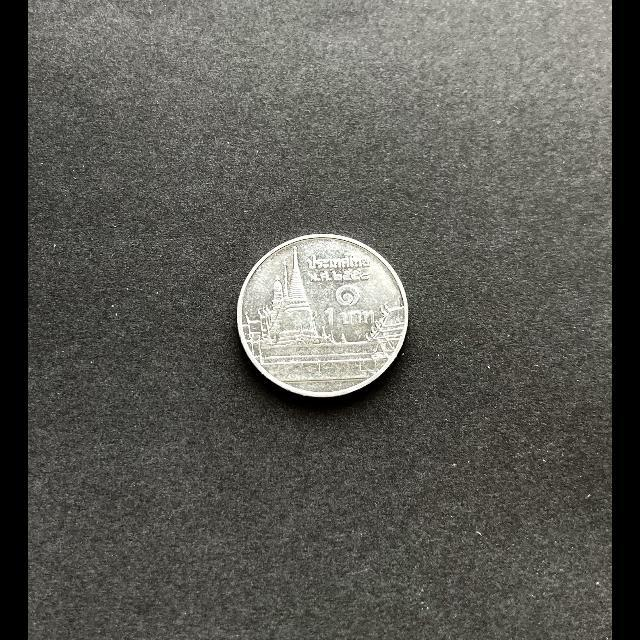1 Bath: (234, 231, 412, 403)
